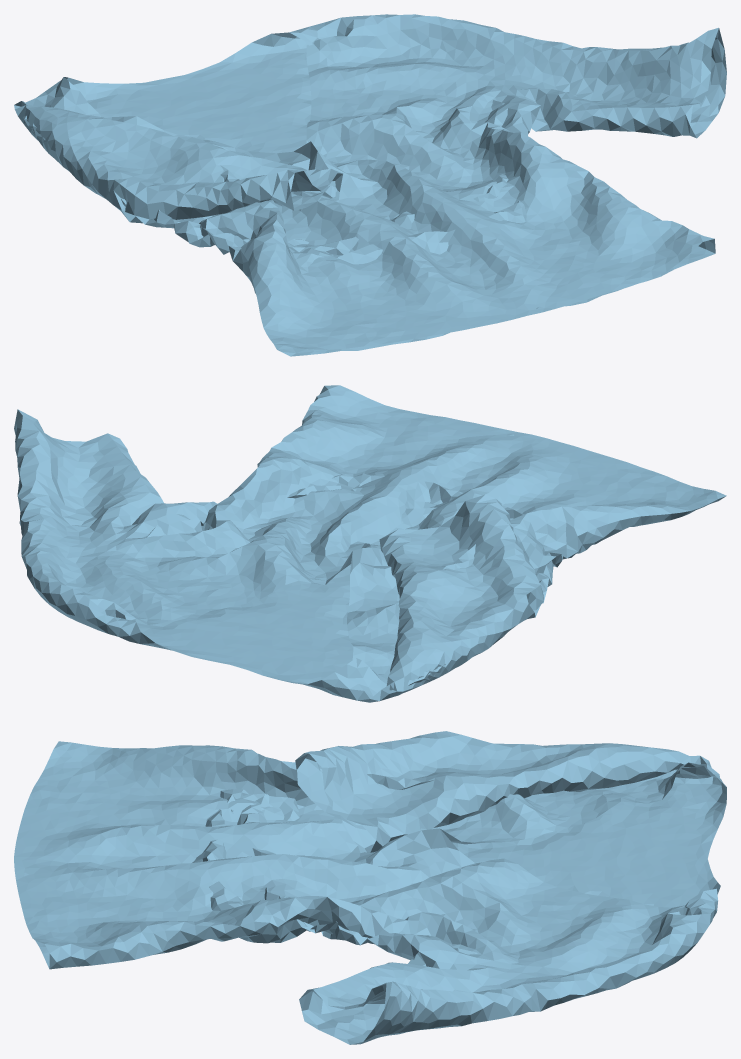
The model's file is frame_02.glb.
The picture shows the model from 3 angles, top to bottom: view 1: azimuth 30°, elevation 25°; view 2: azimuth 150°, elevation 25°; view 3: azimuth 270°, elevation 25°; orthographic projection. The views are drawn at different scales.
Parts seen in each view (by area): view 1: frame_02.obj; view 2: frame_02.obj; view 3: frame_02.obj.
Part boxes in pixels (box(x1,y1,x2,y2)): frame_02.obj: box(14, 14, 726, 356); frame_02.obj: box(14, 385, 726, 702); frame_02.obj: box(14, 731, 726, 1044).
Bounding box in the file's own units: 1.61 × 0.1891 × 1.58.
